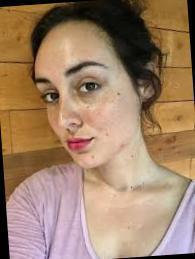Drunk: (36, 38, 134, 168)
